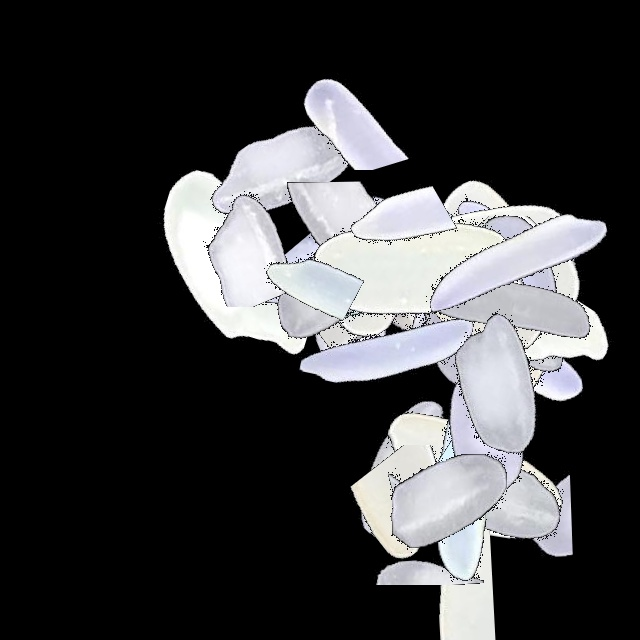Broken: (383, 145, 557, 395), (298, 149, 472, 399), (268, 222, 518, 396), (250, 188, 500, 354), (242, 285, 492, 445), (111, 147, 361, 307), (340, 247, 590, 404), (256, 135, 412, 385), (412, 133, 566, 383), (488, 184, 640, 434), (380, 268, 630, 416), (390, 216, 640, 354), (237, 34, 487, 170), (262, 179, 398, 429), (201, 209, 451, 340), (302, 510, 552, 640), (390, 209, 640, 339), (300, 445, 550, 570), (265, 176, 515, 301), (274, 185, 398, 435), (390, 450, 640, 562), (180, 217, 430, 328), (388, 341, 495, 591), (308, 184, 558, 287), (310, 483, 560, 585), (430, 363, 527, 613), (310, 192, 560, 277)
Full: (264, 134, 514, 384), (283, 346, 533, 596), (112, 137, 362, 387), (153, 44, 403, 294), (347, 353, 597, 603), (373, 149, 623, 399), (255, 136, 505, 386), (370, 374, 620, 624), (390, 218, 640, 468), (390, 193, 640, 443), (390, 182, 640, 432), (336, 202, 586, 452), (339, 132, 589, 382), (214, 159, 464, 409), (341, 357, 591, 607), (299, 151, 549, 401), (390, 149, 640, 399), (283, 136, 533, 386), (356, 308, 606, 558), (322, 377, 572, 627), (390, 180, 640, 430), (374, 256, 624, 506), (390, 133, 640, 383)
